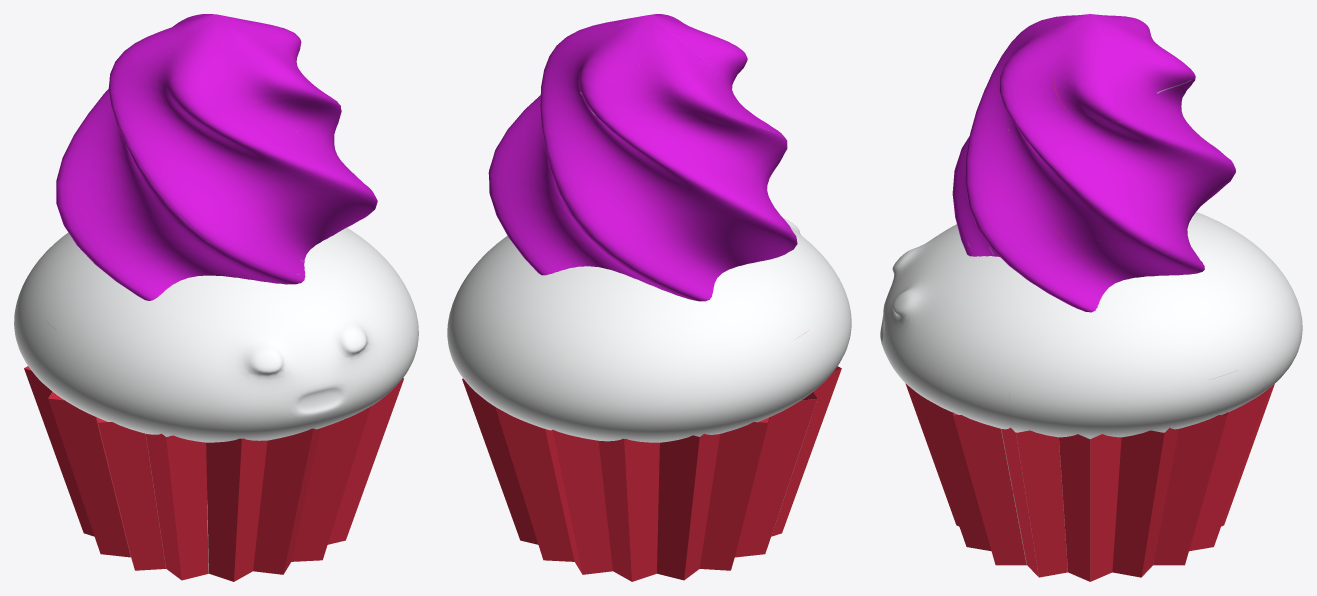
Rendered from new_cupcake.obj.
The picture shows the model from 3 angles, left to right: view 1: azimuth 30°, elevation 25°; view 2: azimuth 150°, elevation 25°; view 3: azimuth 270°, elevation 25°; orthographic projection.
Visible parts, largest first — view 1: Star.002, Sphere, Circle.001; view 2: Star.002, Sphere, Circle.001; view 3: Sphere, Star.002, Circle.001.
Boxes of the visible parts, x1=… form: Star.002: x1=56, y1=14, x2=377, y2=300; Sphere: x1=14, y1=227, x2=418, y2=442; Circle.001: x1=24, y1=366, x2=403, y2=581; Star.002: x1=488, y1=14, x2=797, y2=301; Sphere: x1=447, y1=218, x2=851, y2=442; Circle.001: x1=462, y1=366, x2=841, y2=581; Sphere: x1=880, y1=212, x2=1302, y2=438; Star.002: x1=952, y1=14, x2=1235, y2=312; Circle.001: x1=905, y1=383, x2=1274, y2=581.
Size of the model in its own units: 1.17 by 1.66 by 1.24.
